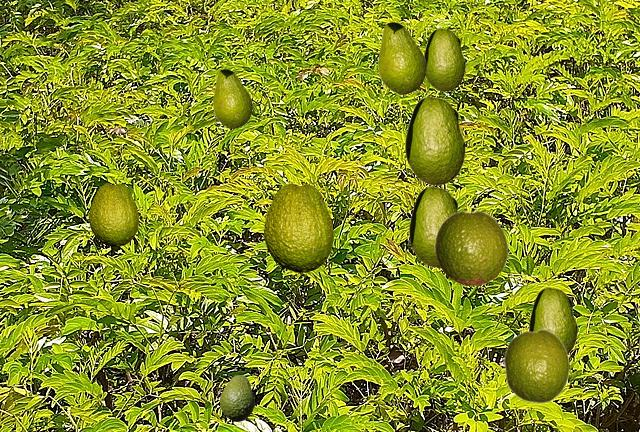avocado: (264, 183, 332, 271), (434, 210, 508, 285), (405, 96, 464, 184), (503, 328, 569, 403), (409, 186, 458, 266), (378, 22, 425, 93), (529, 287, 576, 353), (89, 183, 137, 245), (424, 28, 464, 90), (213, 69, 251, 127), (220, 375, 253, 420)
